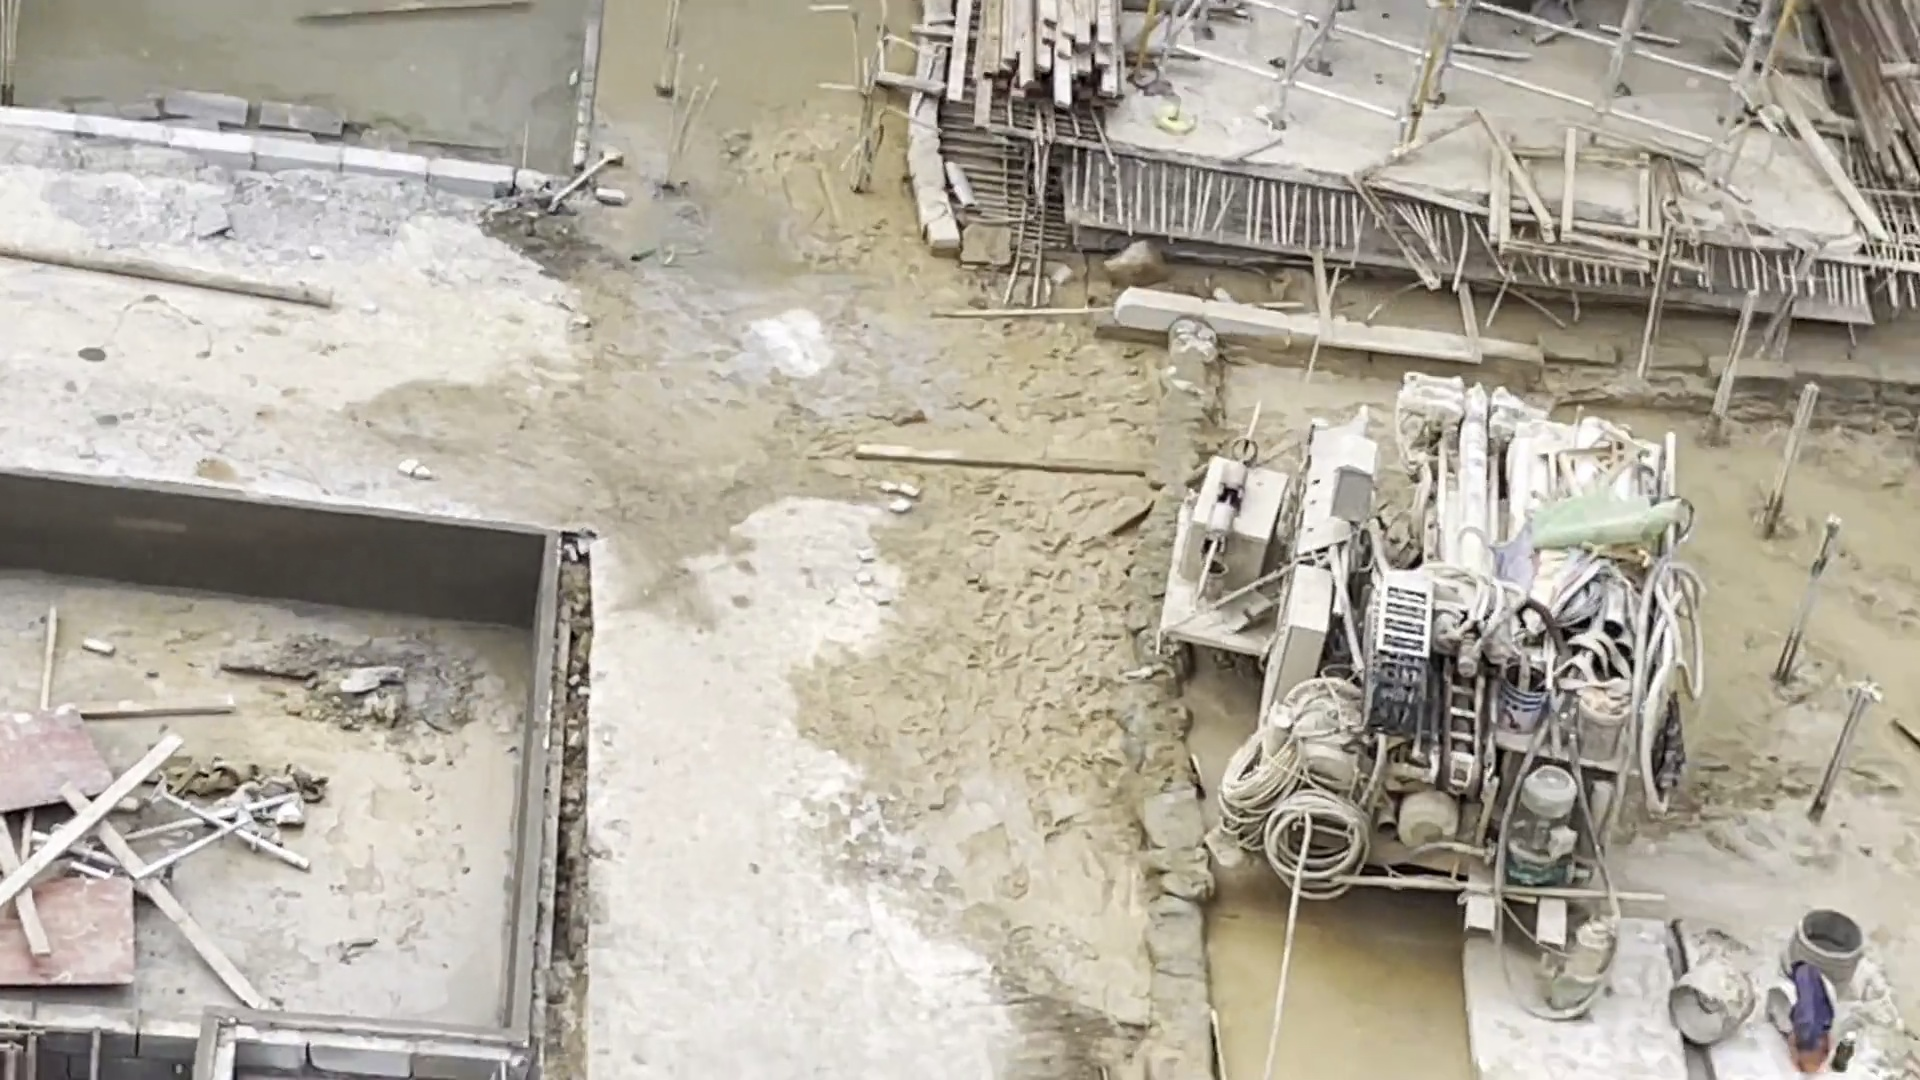wood: (944, 1, 1130, 137)
